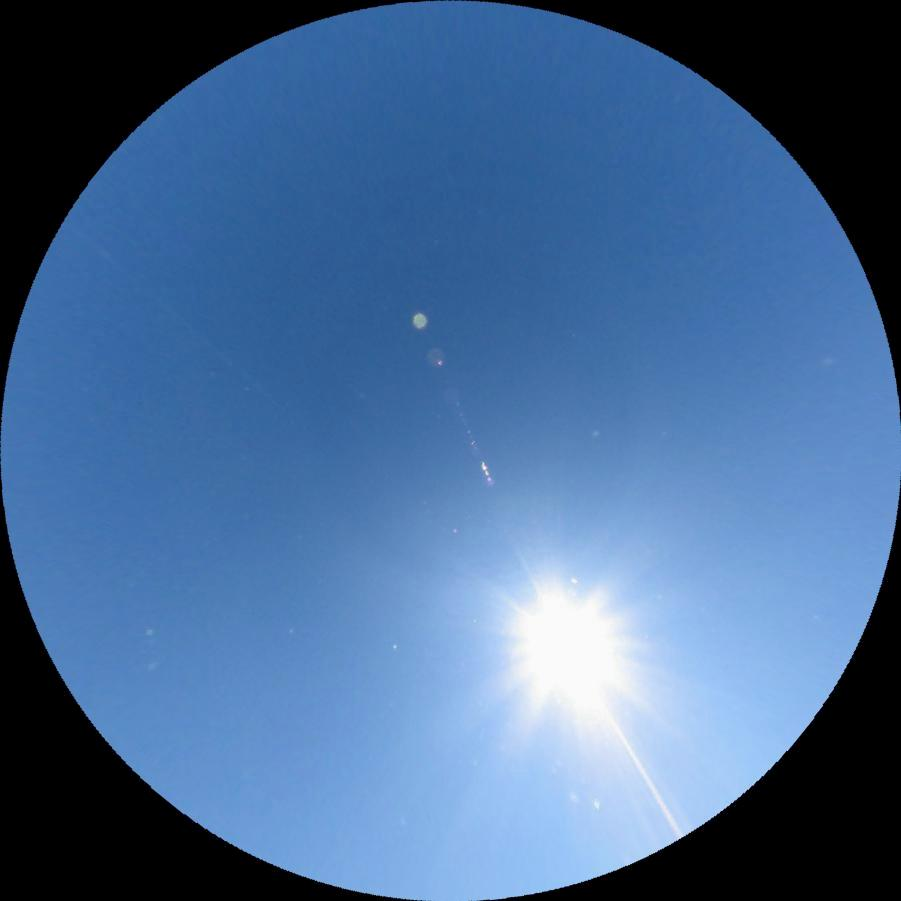parasite: (603, 708, 684, 839)
sun: (512, 578, 625, 721)
